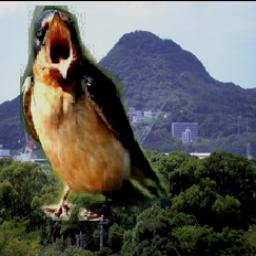Swallow: (20, 7, 170, 222)
